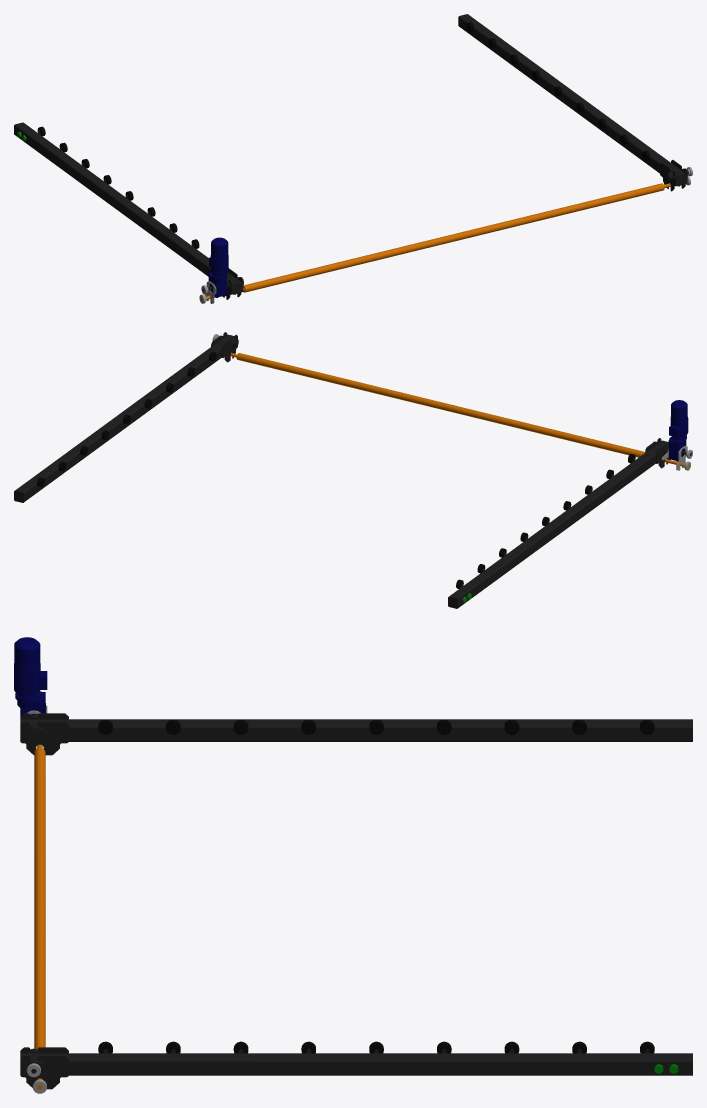
Rendered from SHELF-U-2.obj.
3 renders of one model, top to bottom at view 1: azimuth 30°, elevation 25°; view 2: azimuth 150°, elevation 25°; view 3: azimuth 270°, elevation 25°, orthographic. The views are drawn at different scales.
Visible parts, largest first — view 1: P072575; view 2: P072575; view 3: P072575.
Part boxes in pixels (bbox=[...]): P072575: bbox=[14, 14, 692, 303]; P072575: bbox=[14, 332, 692, 608]; P072575: bbox=[14, 637, 692, 1093].
Size of the model in its own units: 5785 by 723 by 4533.
